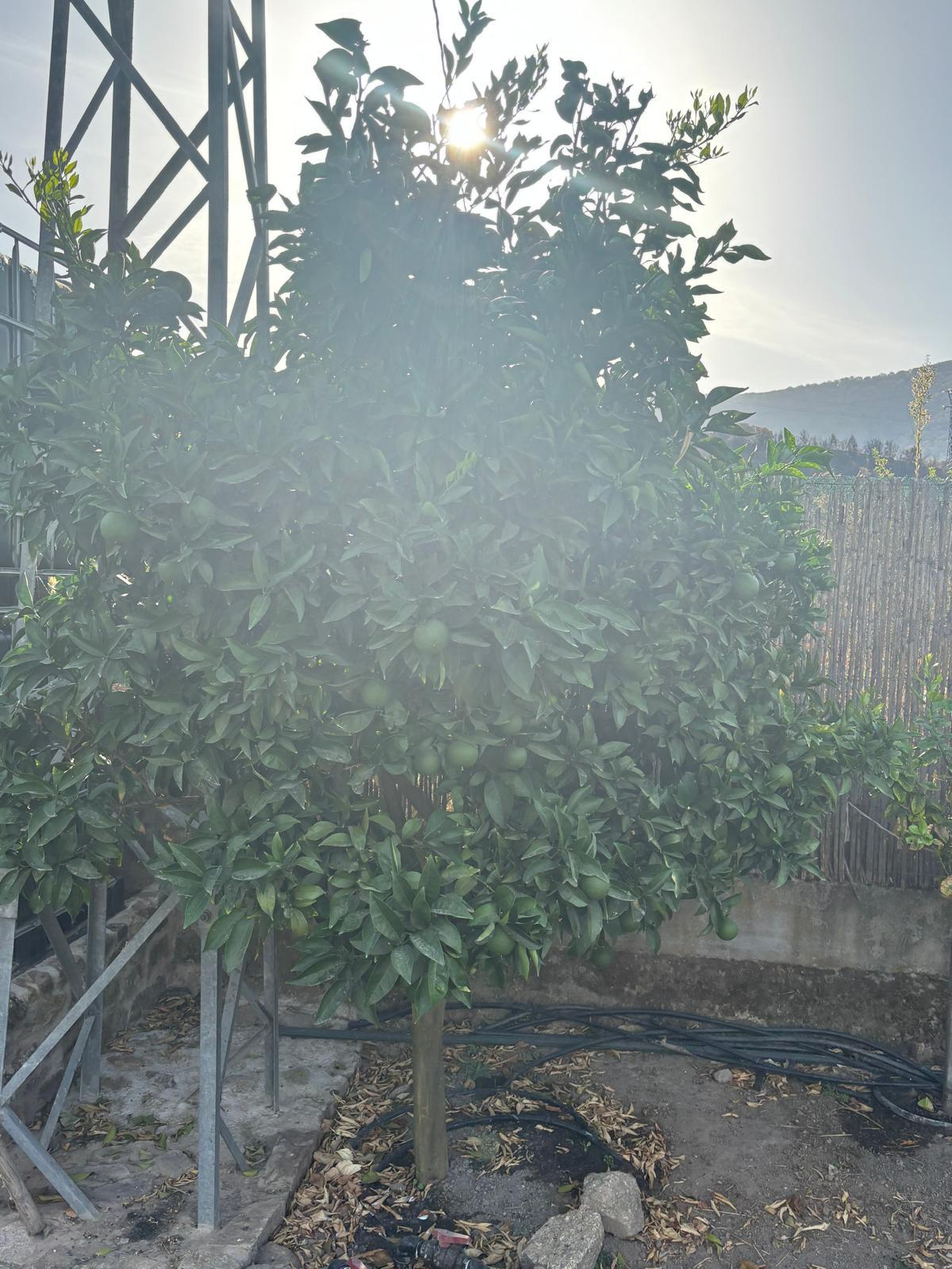naranjo: (280, 133, 829, 1215)
